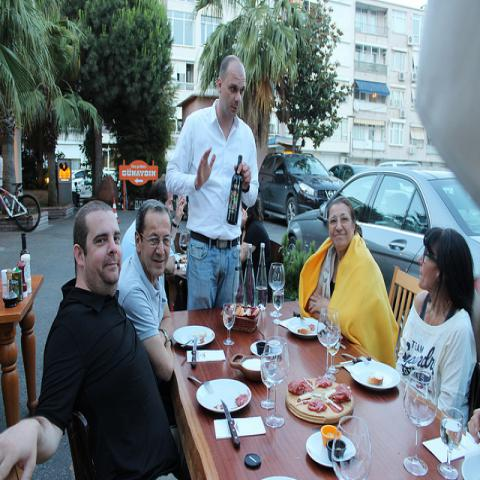car: (288, 166, 479, 367), (258, 151, 344, 227), (71, 170, 93, 206), (328, 164, 354, 183), (377, 161, 421, 168)
